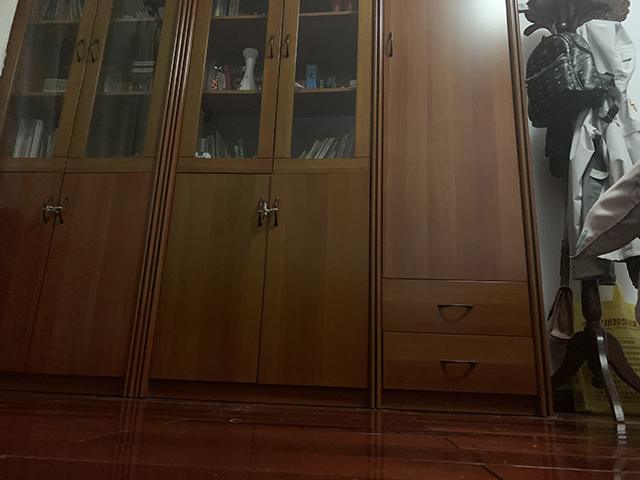cabinet: (1, 158, 541, 419)
